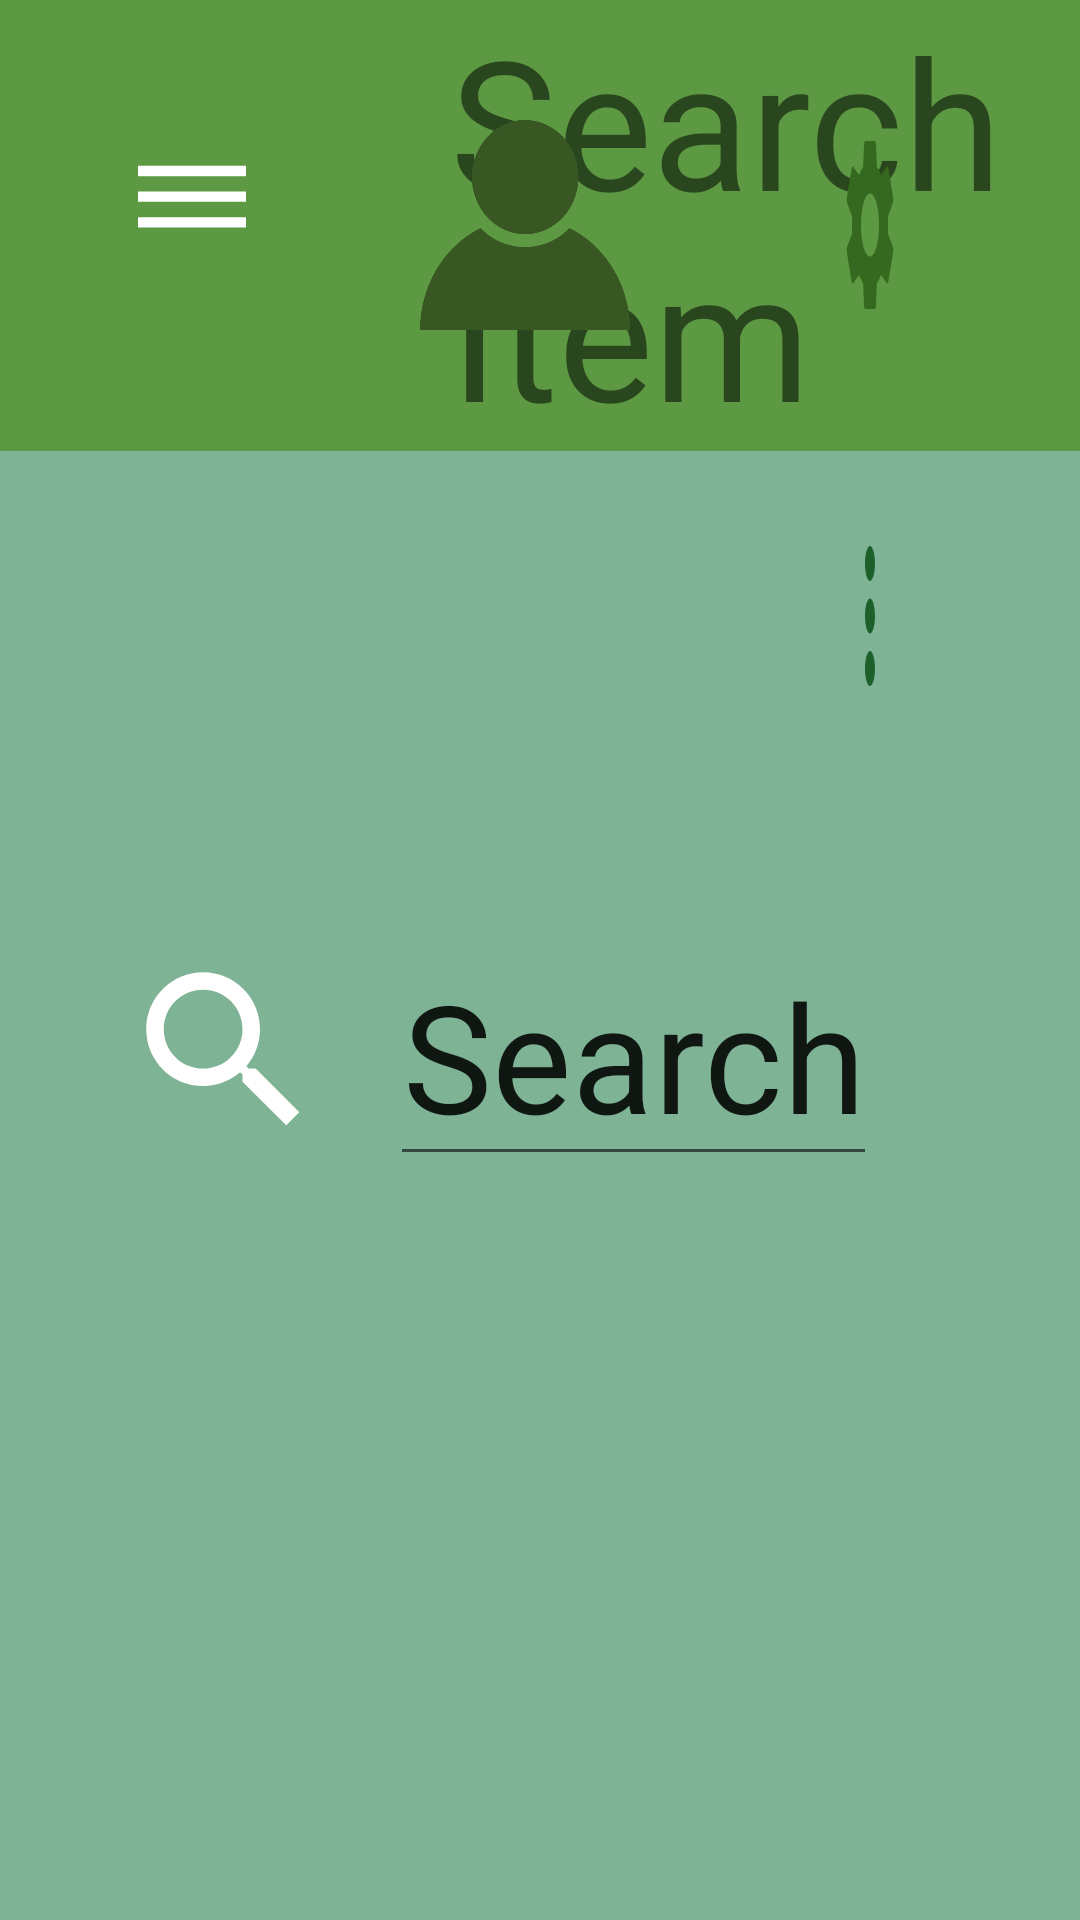

Icon click points for this 1080px x 1920px phone screenshot, format (x,y):
menu: (192,196)
profile: (525,225)
